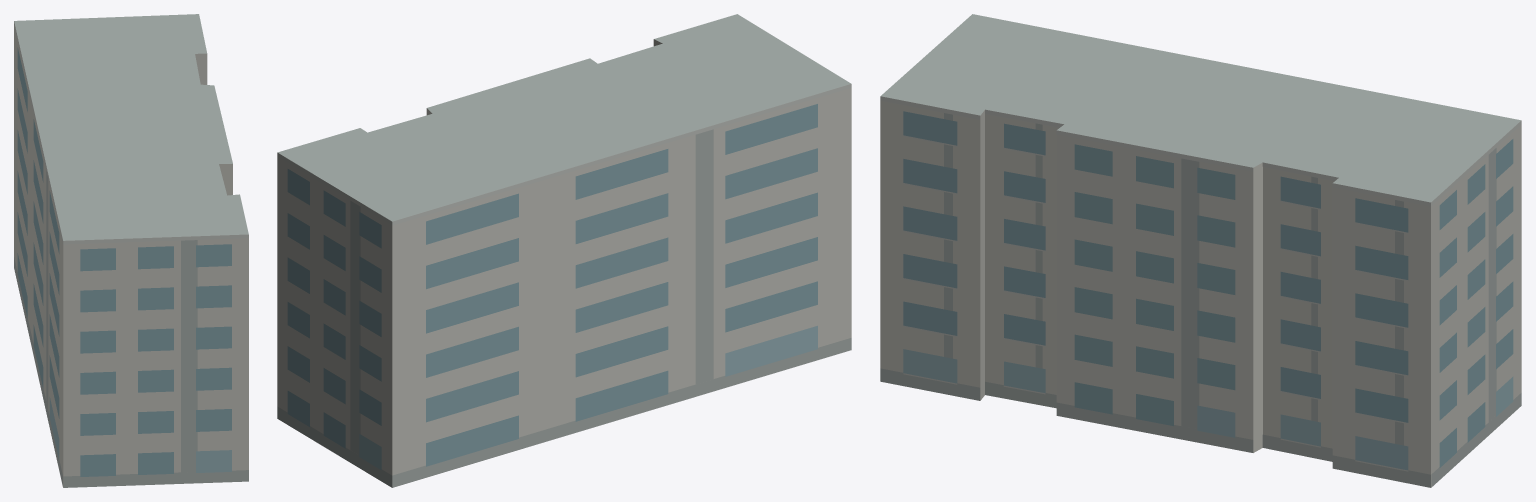
Rendered from survey-upis-32488510.glb.
3 renders of one model, left to right at view 1: azimuth 30°, elevation 25°; view 2: azimuth 150°, elevation 25°; view 3: azimuth 270°, elevation 25°, orthographic. The views are drawn at different scales.
Visible parts, largest first — view 1: survey-upis-32488510.tmp; view 2: survey-upis-32488510.tmp; view 3: survey-upis-32488510.tmp.
Boxes of the visible parts, x1,y1,x2,y2 form: survey-upis-32488510.tmp: [14, 14, 248, 487]; survey-upis-32488510.tmp: [277, 14, 851, 487]; survey-upis-32488510.tmp: [880, 14, 1521, 487].
Bounding box in the file's own units: 22.39 × 15.8 × 32.18.
